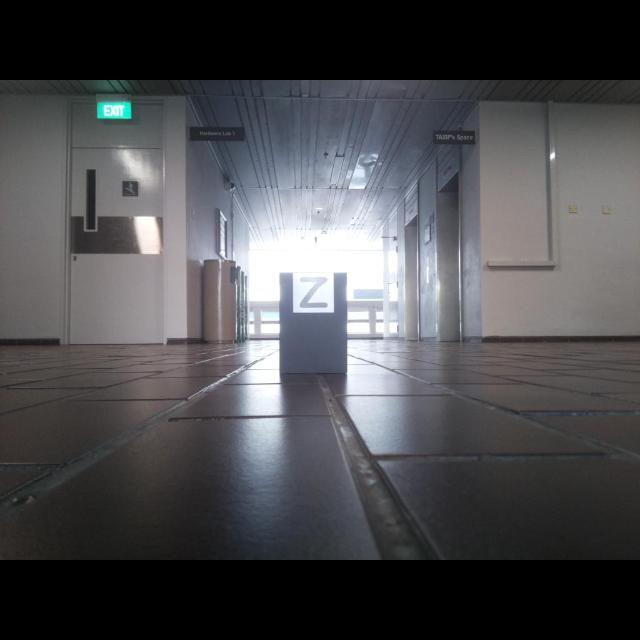Z: (300, 277, 328, 308)
